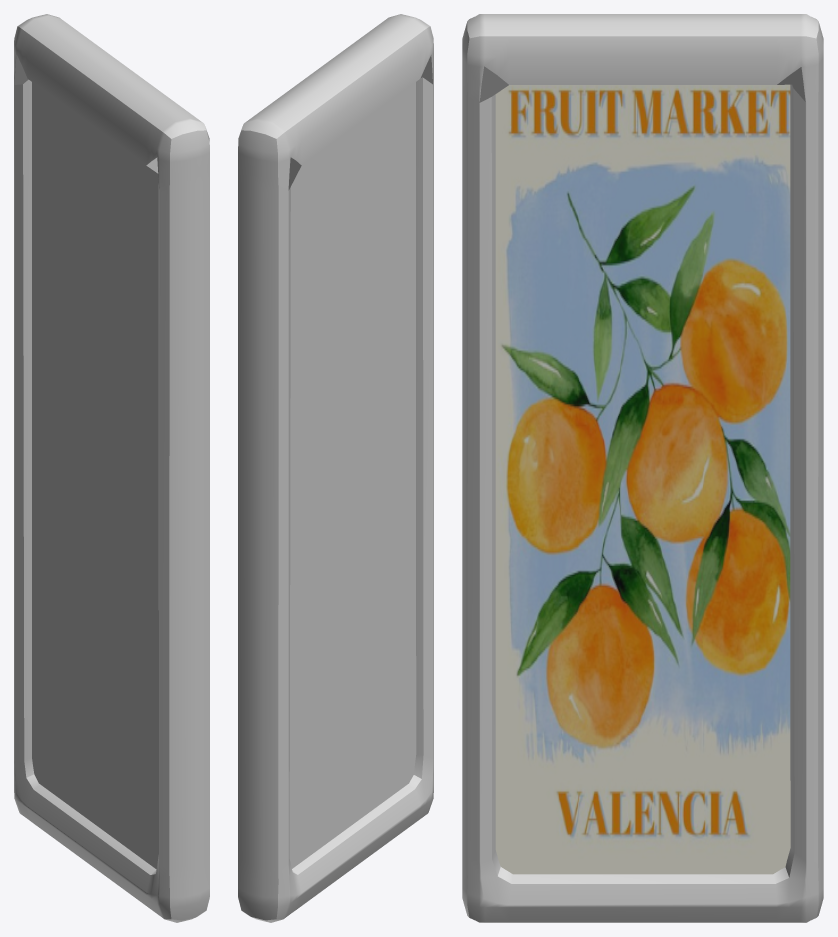
Rendered from PhotoV4.fbx.
3 renders of one model, left to right at view 1: azimuth 30°, elevation 25°; view 2: azimuth 150°, elevation 25°; view 3: azimuth 270°, elevation 25°, orthographic. The views are drawn at different scales.
Parts seen in each view (by area): view 1: pCube101; view 2: pCube101; view 3: pCube101.
Part boxes in pixels (x1,y1,x2,y2): pCube101: [14, 14, 209, 922]; pCube101: [238, 14, 433, 922]; pCube101: [462, 14, 823, 922].
Size of the model in its own units: 7.7 by 118 by 42.76.
